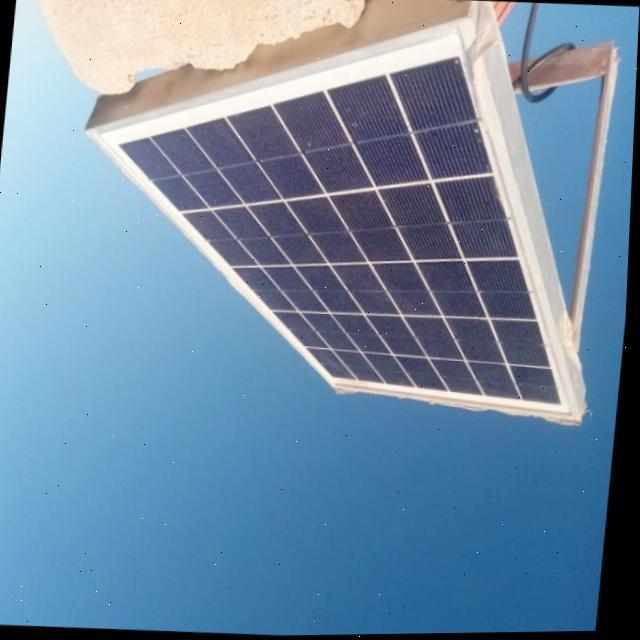Normal Solar Panel: (69, 0, 616, 428)
